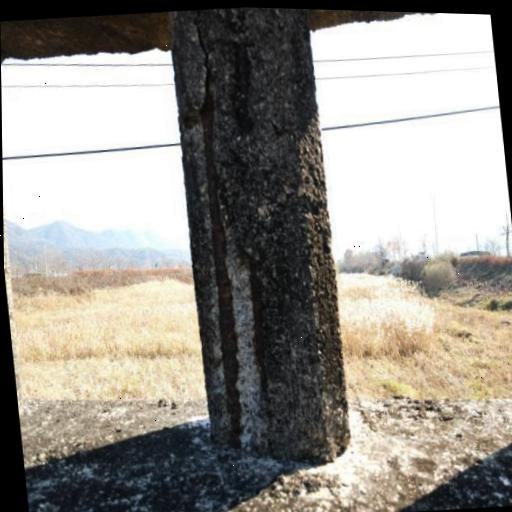exposed_rebar: (202, 83, 242, 447), (250, 260, 267, 392), (235, 45, 252, 132)
